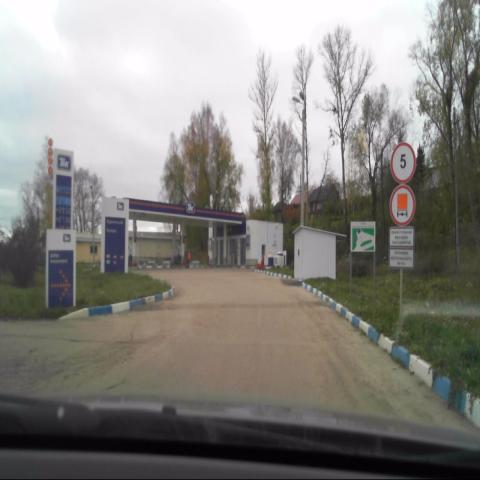3_32: (390, 186, 416, 226)
